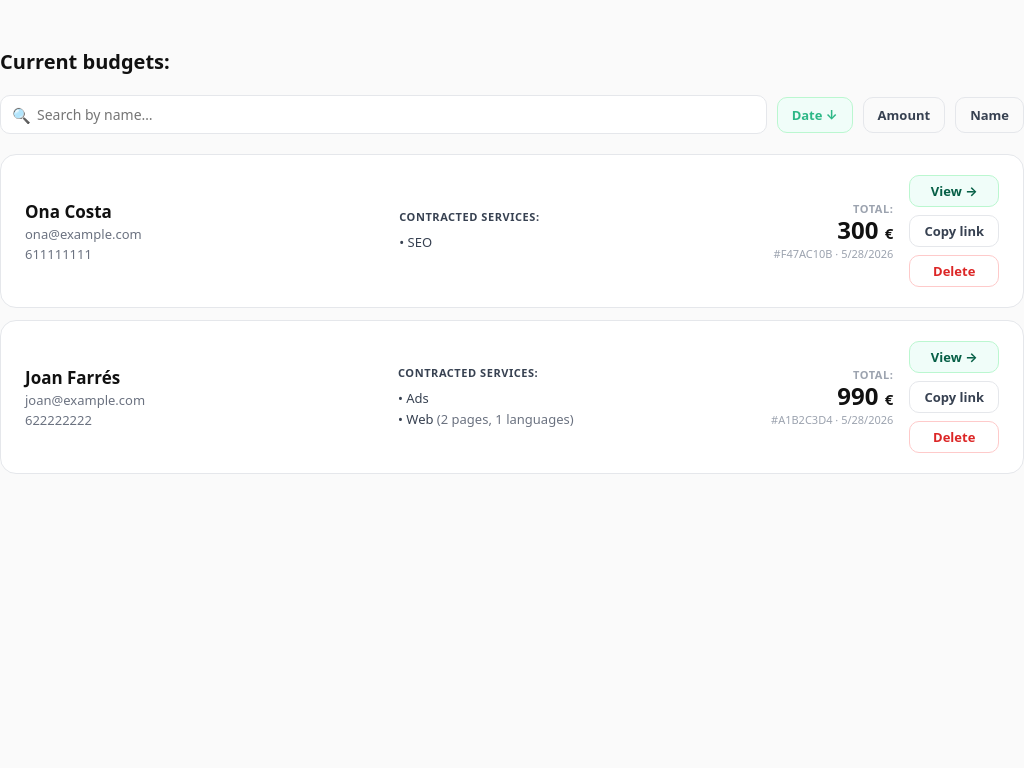
BudgetList › closes modal when cancel is clicked
This screenshot has width=1024, height=768.
Click the button "Delete" in the row of "F47AC10B" at (954, 271), box [909,255,999,287]
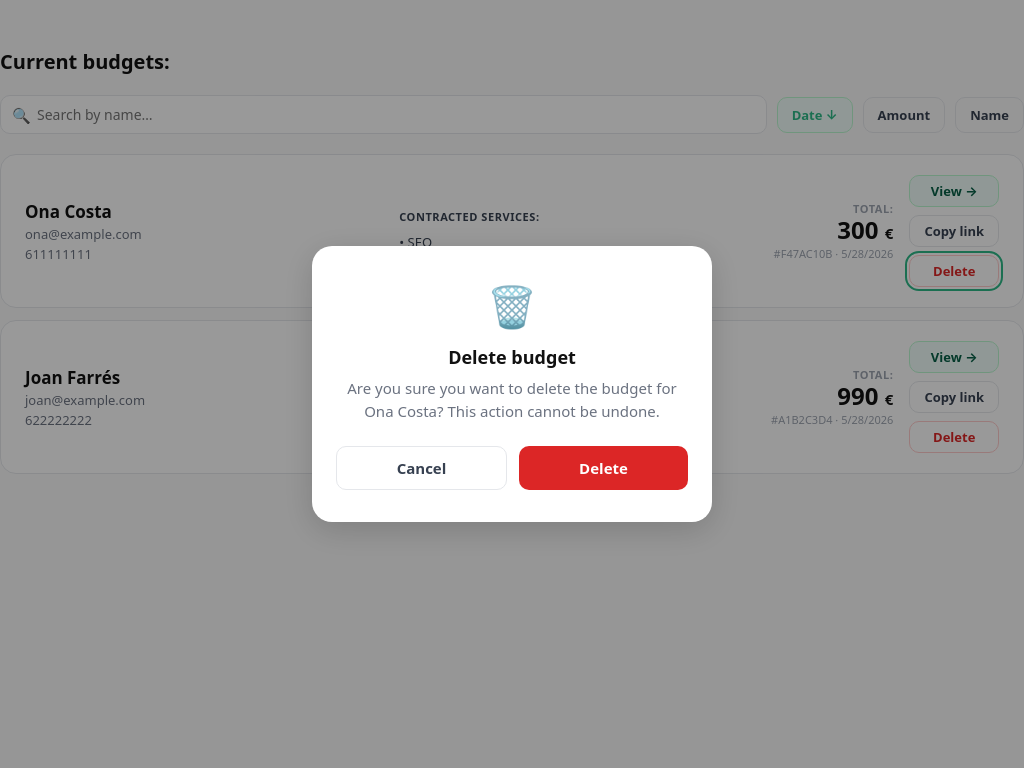
Click the button "Cancel" at (422, 468), box [336,446,507,490]
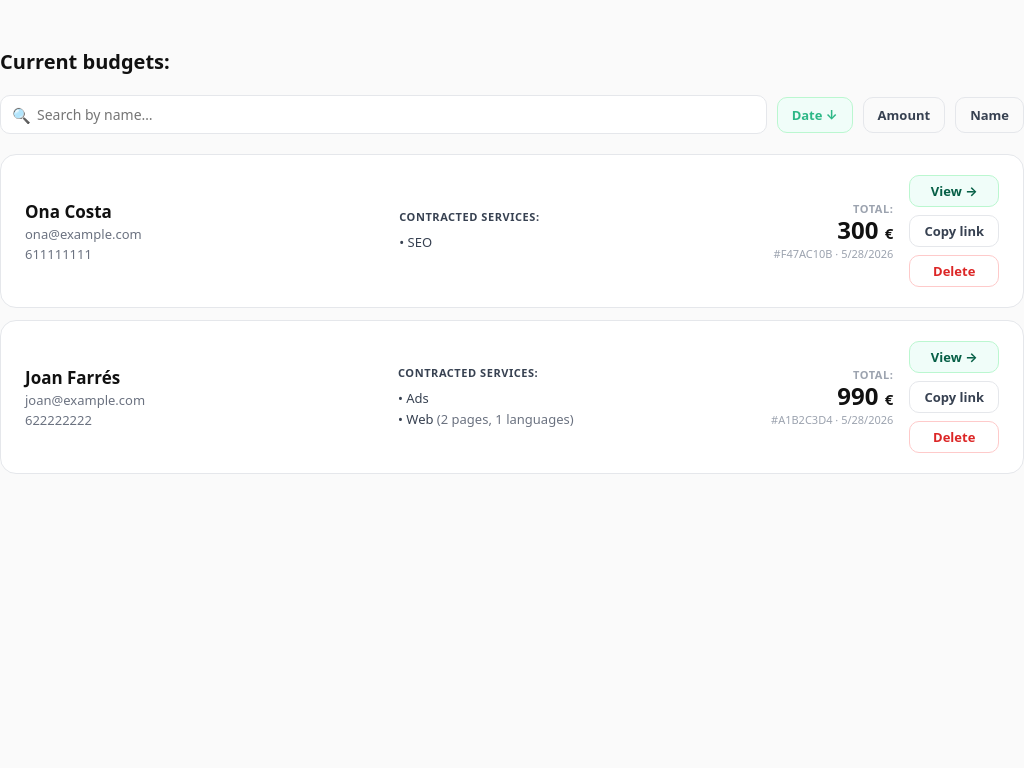
Expected: the dialog is gone
